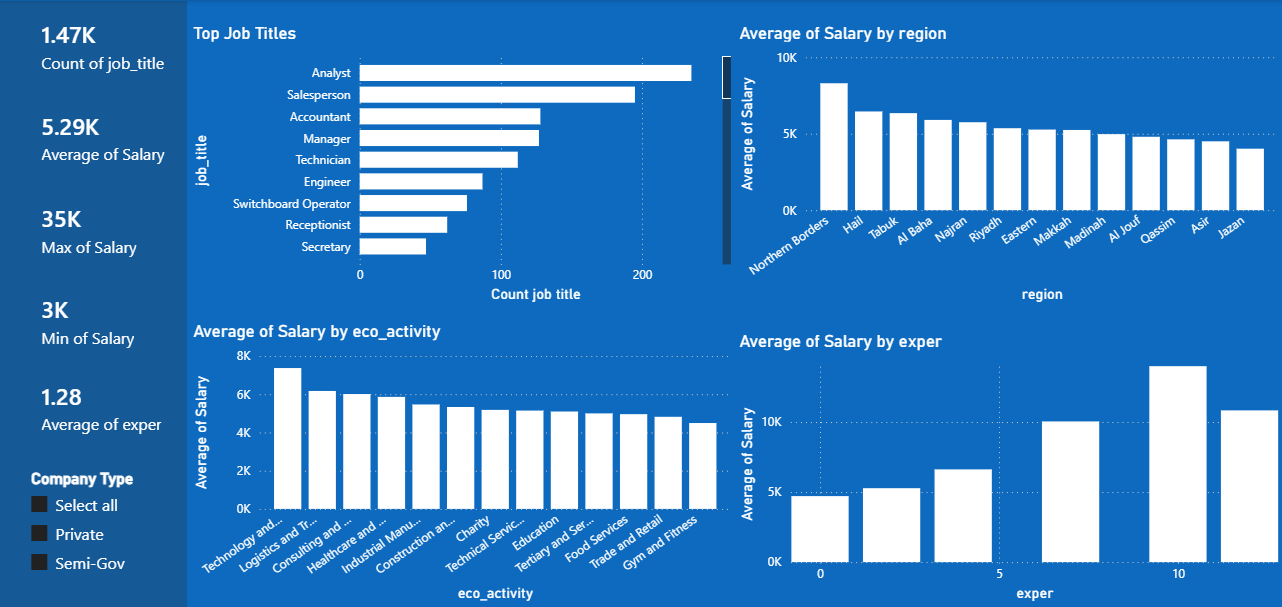

What the dashboard file says about the page in this screenshot:
{"tool":"powerbi","page":{"name":"Page ١","canvas":[1280,720],"ordinal":0},"visuals":[{"type":"clusteredBarChart","title":"Top Job Titles","fields":{"Category":["saudi_jobs_cleaned.job_title"],"Y":["CountNonNull(saudi_jobs_cleaned.job_title)"]},"box":[190,22.5,545,283.8],"z":0},{"type":"clusteredColumnChart","fields":{"Category":["saudi_jobs_cleaned.region"],"Y":["Avg(saudi_jobs_cleaned.Salary)"]},"box":[733.8,22.5,546.2,283.8],"z":1000},{"type":"clusteredColumnChart","fields":{"Y":["Avg(saudi_jobs_cleaned.Salary)"],"Category":["saudi_jobs_cleaned.exper"]},"box":[733.8,330,546.2,273.8],"z":2000},{"type":"clusteredColumnChart","fields":{"Category":["saudi_jobs_cleaned.eco_activity"],"Y":["Avg(saudi_jobs_cleaned.Salary)"]},"box":[190,320,545,283.8],"z":3000},{"type":"shape","box":[-0.3,0,190,720],"z":3500},{"type":"cardVisual","fields":{"Data":["CountNonNull(saudi_jobs_cleaned.job_title)"]},"box":[21.7,0,295,91.2],"z":4000},{"type":"cardVisual","fields":{"Data":["Max(saudi_jobs_cleaned.Salary)"]},"box":[21.7,182.5,295,91.2],"z":5000},{"type":"cardVisual","fields":{"Data":["Avg(saudi_jobs_cleaned.exper)"]},"box":[21.7,360,295,91.2],"z":6000},{"type":"cardVisual","fields":{"Data":["Avg(saudi_jobs_cleaned.Salary)"]},"box":[21.7,91.2,296.2,91.2],"z":7000},{"type":"slicer","fields":{"Values":["saudi_jobs_cleaned.comp_type_label"]},"box":[21.7,462.5,140,118.8],"z":8000},{"type":"cardVisual","fields":{"Data":["Min(saudi_jobs_cleaned.Salary)"]},"box":[21.7,273.8,295,91.2],"z":9000}]}

Visuals, with their boxes on the page's 1280x720 design canvas (x1, y1, x2, y2). These are canvas units, not pixel positions in the 1282x607 screenshot, which may show the page scaled, cropped or inside an application window:
"Top Job Titles" clusteredBarChart: 190/22/735/306
clusteredColumnChart - saudi_jobs_cleaned.region x Avg(saudi_jobs_cleaned.Salary): 734/22/1280/306
clusteredColumnChart - Avg(saudi_jobs_cleaned.Salary) x saudi_jobs_cleaned.exper: 734/330/1280/604
clusteredColumnChart - saudi_jobs_cleaned.eco_activity x Avg(saudi_jobs_cleaned.Salary): 190/320/735/604
shape: 0/0/190/720
cardVisual - CountNonNull(saudi_jobs_cleaned.job_title): 22/0/317/91
cardVisual - Max(saudi_jobs_cleaned.Salary): 22/182/317/274
cardVisual - Avg(saudi_jobs_cleaned.exper): 22/360/317/451
cardVisual - Avg(saudi_jobs_cleaned.Salary): 22/91/318/182
slicer - saudi_jobs_cleaned.comp_type_label: 22/462/162/581
cardVisual - Min(saudi_jobs_cleaned.Salary): 22/274/317/365
